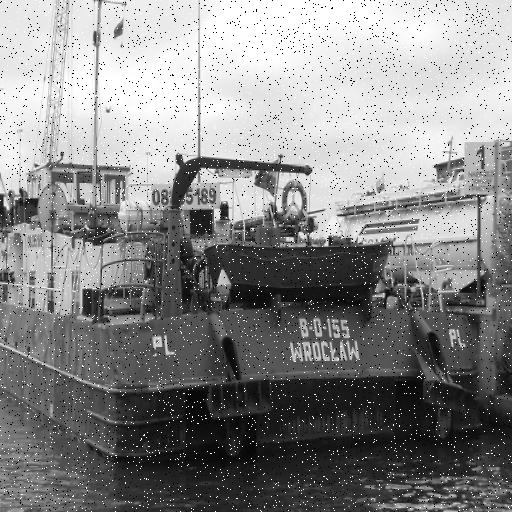tugboat: (1, 1, 486, 480)
